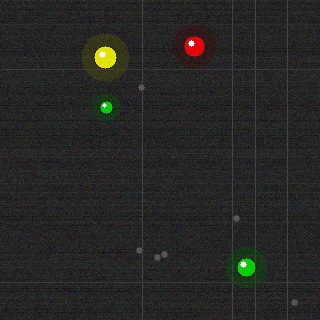green_normal: (235, 256, 257, 278), (98, 99, 114, 115)
red_fault: (182, 34, 206, 58)
yellow_warning: (92, 44, 118, 70)
